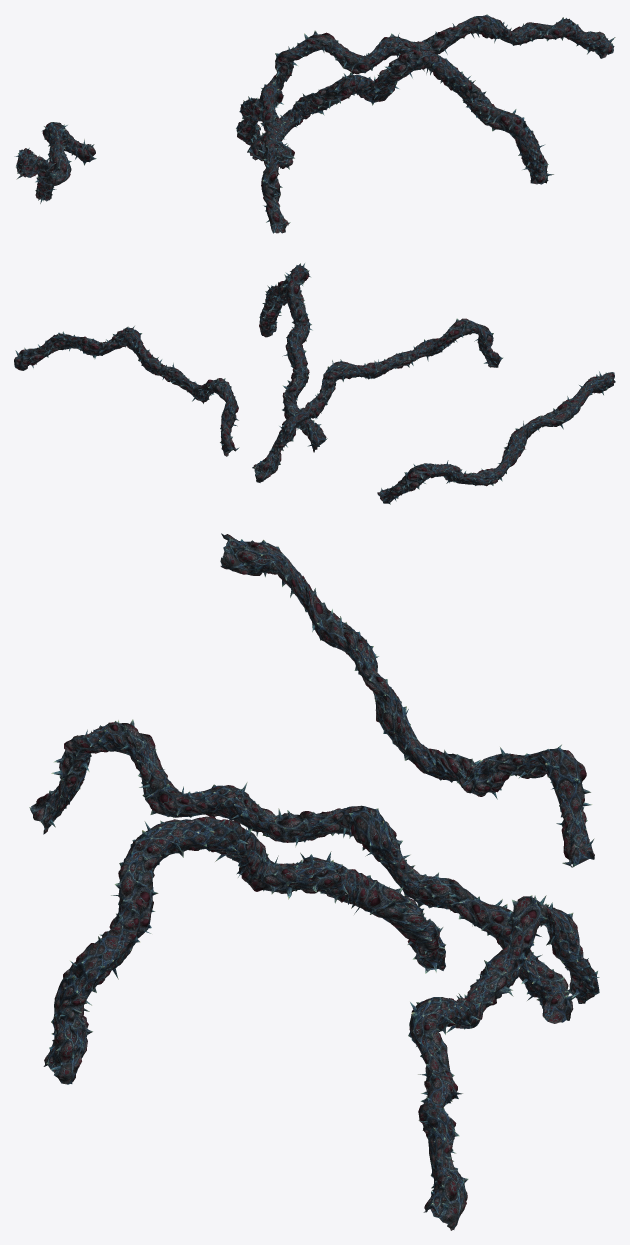
Rendered from Heltree01.fbx.
The picture shows the model from 3 angles, top to bottom: view 1: azimuth 30°, elevation 25°; view 2: azimuth 150°, elevation 25°; view 3: azimuth 270°, elevation 25°; orthographic projection. The views are drawn at different scales.
Visible parts, largest first — view 1: LODGroup_1_MainMesh_3_SubMesh_1, LODGroup_1_MainMesh_3_SubMesh_2, LODGroup_1_MainMesh_4_SubMesh_1, LODGroup_1_MainMesh_4_SubMesh_2, LODGroup_1_MainMesh_2_SubMesh_1, LODGroup_1_MainMesh_1_SubMesh_1, LODGroup_1_MainMesh_2_SubMesh_2, LODGroup_1_MainMesh_1_SubMesh_2; view 2: LODGroup_1_MainMesh_4_SubMesh_1, LODGroup_1_MainMesh_2_SubMesh_1, LODGroup_1_MainMesh_2_SubMesh_2, LODGroup_1_MainMesh_1_SubMesh_2, LODGroup_1_MainMesh_3_SubMesh_1, LODGroup_1_MainMesh_1_SubMesh_1, LODGroup_1_MainMesh_4_SubMesh_2, LODGroup_1_MainMesh_3_SubMesh_2; view 3: LODGroup_1_MainMesh_3_SubMesh_1, LODGroup_1_MainMesh_2_SubMesh_1, LODGroup_1_MainMesh_3_SubMesh_2, LODGroup_1_MainMesh_2_SubMesh_2, LODGroup_1_MainMesh_1_SubMesh_1, LODGroup_1_MainMesh_4_SubMesh_2, LODGroup_1_MainMesh_4_SubMesh_1, LODGroup_1_MainMesh_1_SubMesh_2.
Part boxes in pixels (x1,y1,x2,y2): LODGroup_1_MainMesh_3_SubMesh_1: [252, 46, 553, 184]; LODGroup_1_MainMesh_3_SubMesh_2: [247, 53, 548, 184]; LODGroup_1_MainMesh_4_SubMesh_1: [268, 16, 615, 89]; LODGroup_1_MainMesh_4_SubMesh_2: [261, 14, 614, 89]; LODGroup_1_MainMesh_2_SubMesh_1: [236, 81, 294, 228]; LODGroup_1_MainMesh_1_SubMesh_1: [14, 122, 96, 203]; LODGroup_1_MainMesh_2_SubMesh_2: [239, 82, 290, 233]; LODGroup_1_MainMesh_1_SubMesh_2: [16, 122, 91, 201]; LODGroup_1_MainMesh_4_SubMesh_1: [14, 326, 239, 452]; LODGroup_1_MainMesh_2_SubMesh_1: [255, 318, 499, 482]; LODGroup_1_MainMesh_2_SubMesh_2: [252, 318, 503, 476]; LODGroup_1_MainMesh_1_SubMesh_2: [377, 372, 615, 504]; LODGroup_1_MainMesh_3_SubMesh_1: [259, 263, 326, 446]; LODGroup_1_MainMesh_1_SubMesh_1: [379, 371, 613, 501]; LODGroup_1_MainMesh_4_SubMesh_2: [24, 326, 237, 456]; LODGroup_1_MainMesh_3_SubMesh_2: [265, 263, 327, 452]; LODGroup_1_MainMesh_3_SubMesh_1: [51, 816, 445, 1084]; LODGroup_1_MainMesh_2_SubMesh_1: [29, 719, 575, 1023]; LODGroup_1_MainMesh_3_SubMesh_2: [43, 820, 445, 1077]; LODGroup_1_MainMesh_2_SubMesh_2: [36, 721, 570, 1011]; LODGroup_1_MainMesh_1_SubMesh_1: [220, 545, 594, 867]; LODGroup_1_MainMesh_4_SubMesh_2: [408, 895, 599, 1219]; LODGroup_1_MainMesh_4_SubMesh_1: [410, 895, 599, 1230]; LODGroup_1_MainMesh_1_SubMesh_2: [221, 533, 594, 867].
Size of the model in its own units: 15369 by 3506 by 6968.
